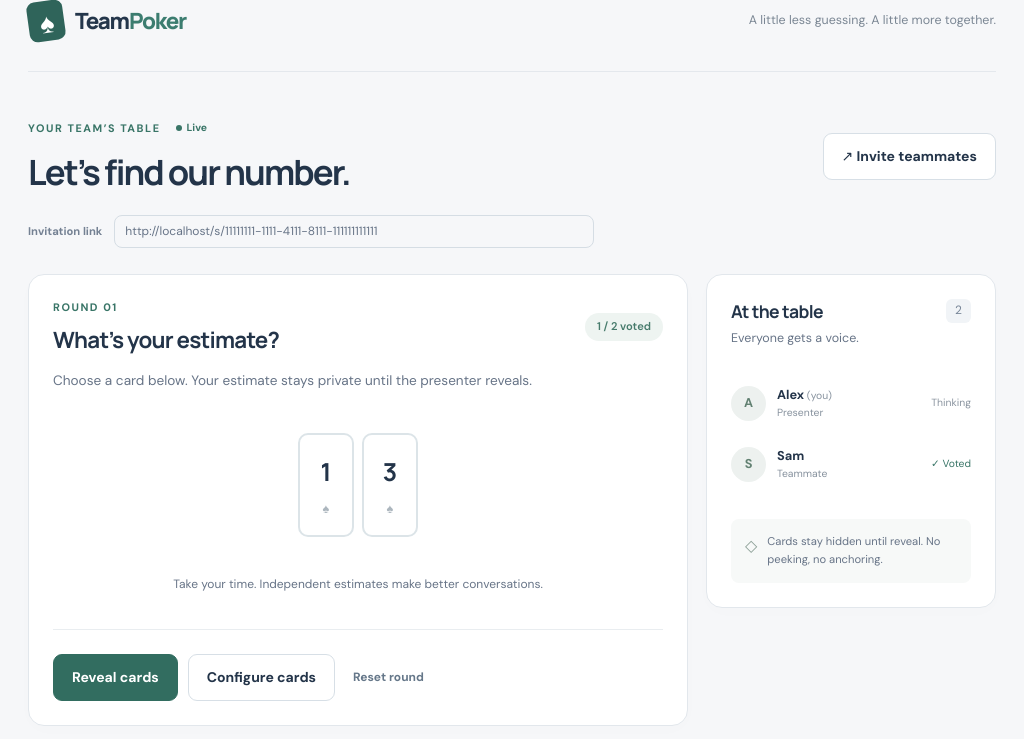
Test: session interface › surfaces failed writes without claiming success
Expected: the heading "What’s your estimate?" is shown, [53,325,279,354]
Click the button "1 ♠" at point(326, 485), box [298,433,354,537]
(page scrolled)
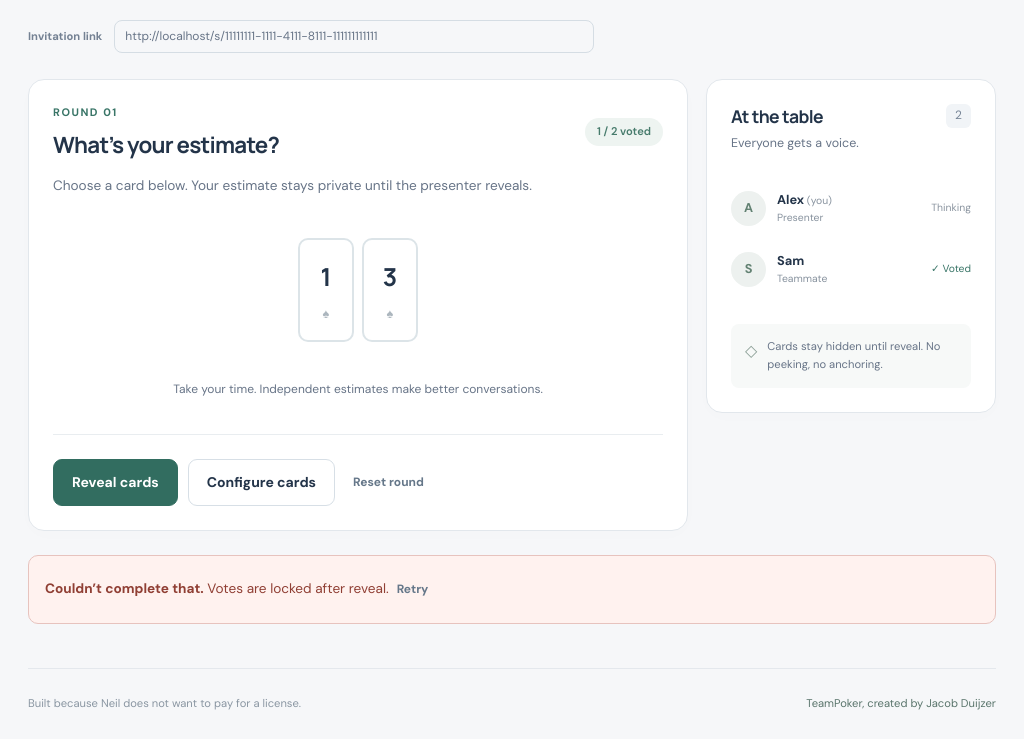
Expected: the message "Couldn’t complete that. Votes are locked after reveal. Retry" is shown, [28,555,996,624]
